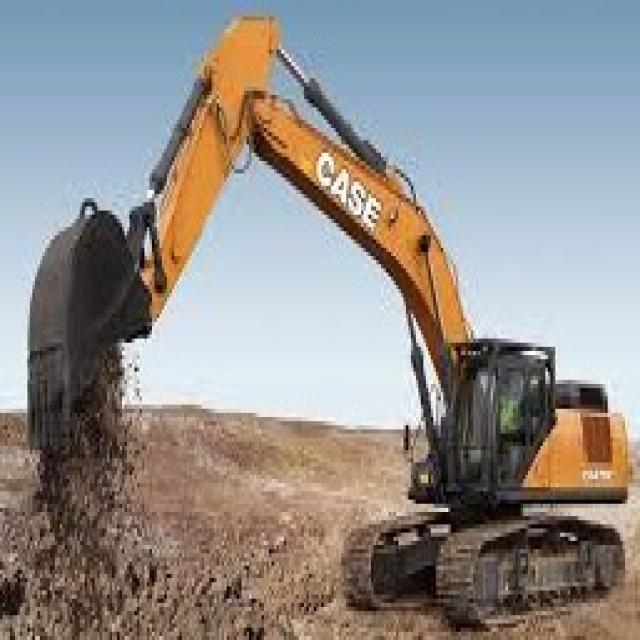excavator: (385, 301, 634, 524)
